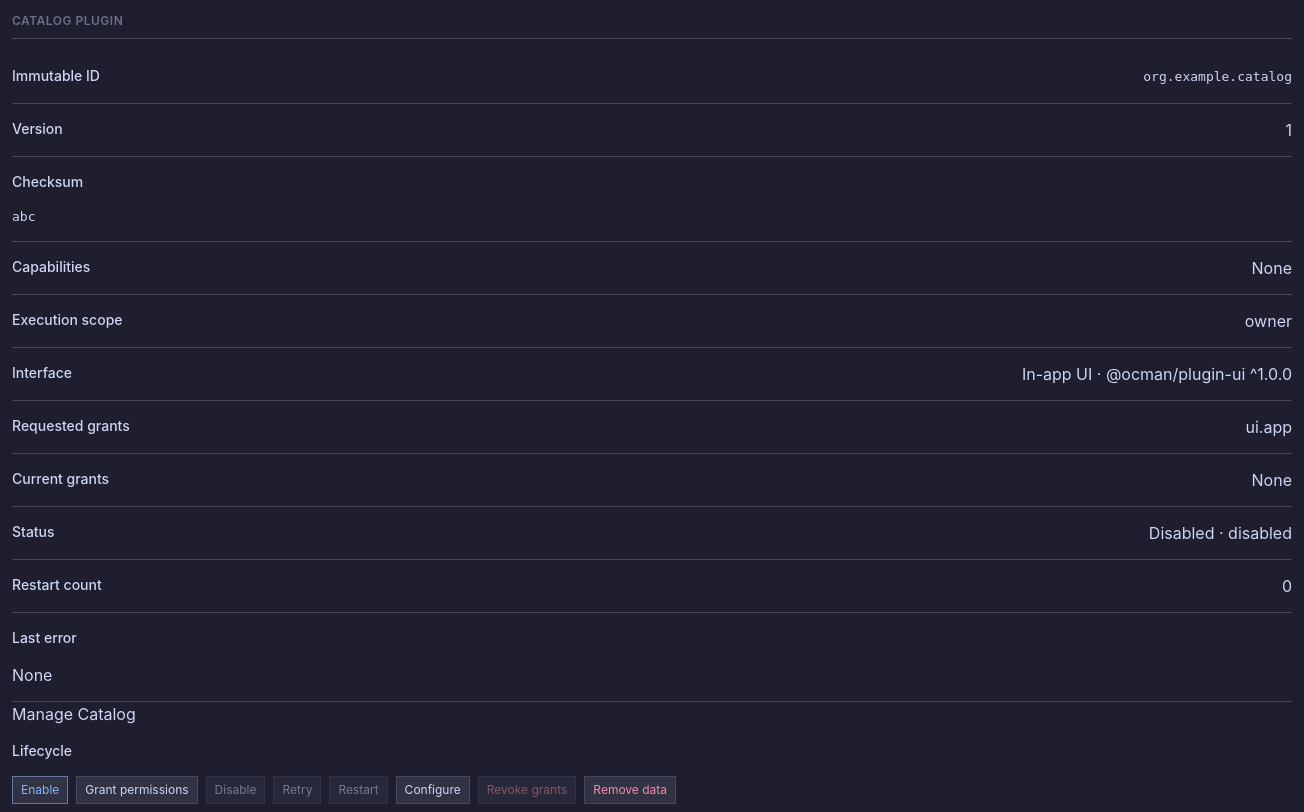
discloses that approving in-app UI runs code with the ocman session
Expected: the text "Interface In-app UI · @ocman/plugin-ui ^1.0.0" is shown, [12,348,1292,400]
Click the button "Enable": (40, 790) [12,776,68,804]
(page scrolled)
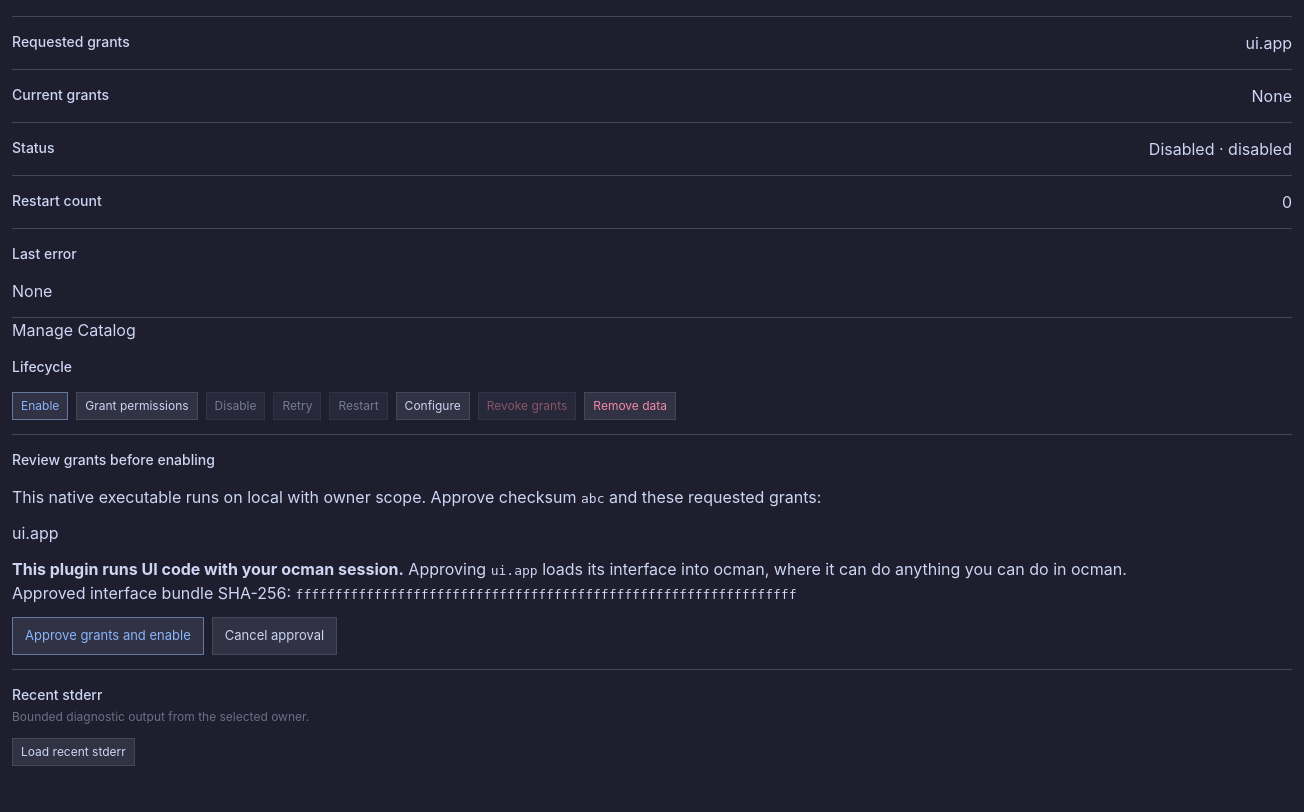
Expected: the element named "Plugin interface disclosure" does not show "remote owners", [12,556,1127,604]
Now the element named "Plugin interface disclosure" shows "This plugin runs UI code with your ocman session.", box [12,558,404,578]
